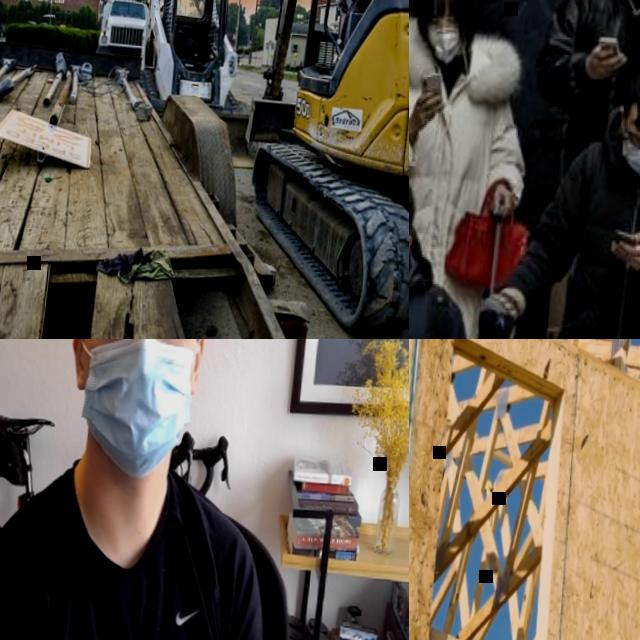Mask: (71, 339, 199, 486), (426, 30, 461, 65), (623, 142, 640, 181)
NO-Hardhat: (618, 58, 640, 119), (416, 0, 472, 17)
NO-Safety Vest: (0, 467, 227, 640), (409, 66, 503, 289), (459, 0, 589, 150), (561, 149, 640, 339), (561, 0, 640, 141), (409, 281, 447, 339)
Person: (0, 339, 308, 640), (440, 0, 603, 339), (478, 47, 640, 339), (409, 0, 537, 339), (530, 0, 640, 154), (409, 169, 488, 339)
vehicle: (231, 0, 409, 339), (135, 0, 279, 170), (96, 0, 150, 59)
